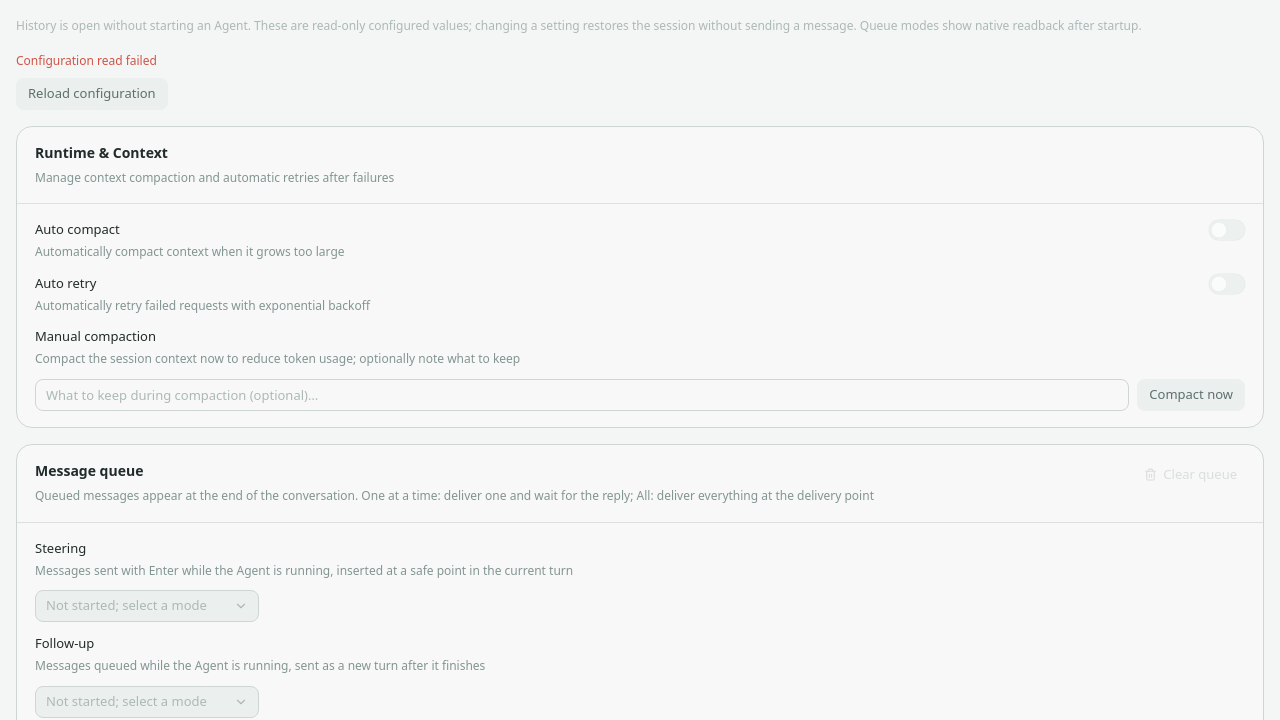
Test: cold session controls › retries a failed configuration query without initializing
Check: the message reads "Configuration read failed", box [16,52,157,68]
Click the button "Reload configuration" at [92, 94], box [16,78,168,110]
(page scrolled)
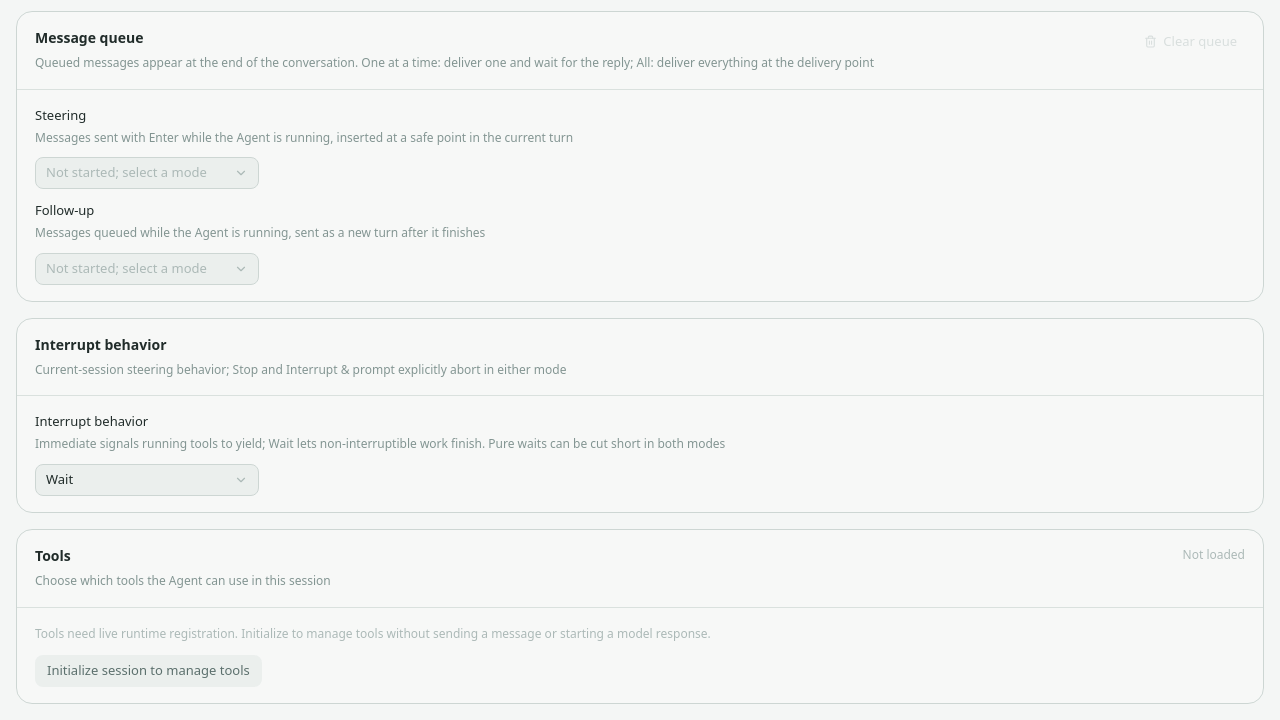
Check: the message "Configuration read failed" is gone
Check: the button "Wait" is shown, box [35,464,259,496]
